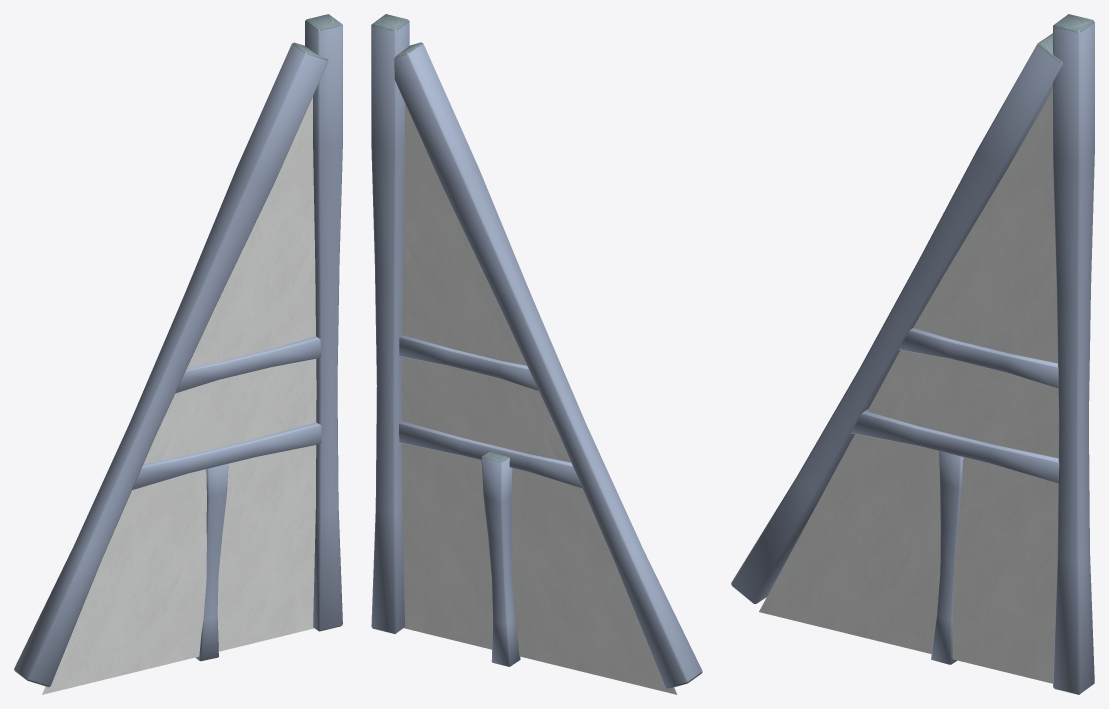
Rendered from PlasterWall_Corner_L.fbx.
3 renders of one model, left to right at view 1: azimuth 30°, elevation 25°; view 2: azimuth 150°, elevation 25°; view 3: azimuth 330°, elevation 25°, orthographic. The views are drawn at different scales.
Visible parts, largest first — view 1: PlasterWall_Corner_L; view 2: PlasterWall_Corner_L; view 3: PlasterWall_Corner_L.
Part boxes in pixels (bbox=[...]): PlasterWall_Corner_L: bbox=[14, 14, 342, 694]; PlasterWall_Corner_L: bbox=[371, 14, 702, 694]; PlasterWall_Corner_L: bbox=[731, 14, 1094, 694].
Bounding box in the file's own units: 2.23 × 4.09 × 0.1948.
